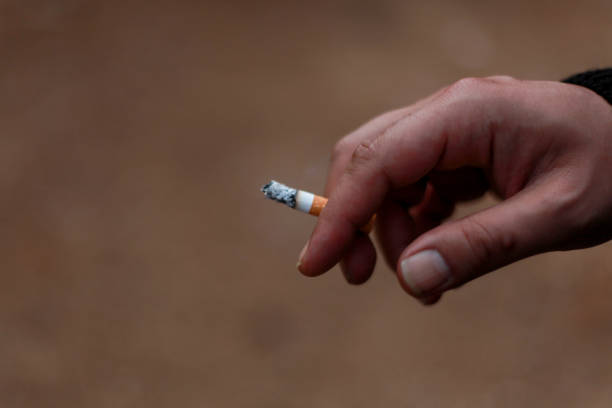cigarette: (261, 173, 330, 217)
